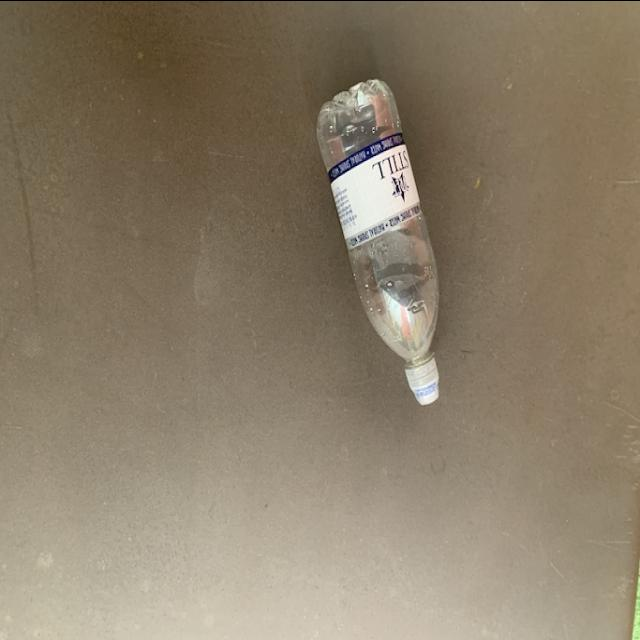PET: (315, 75, 452, 406)
